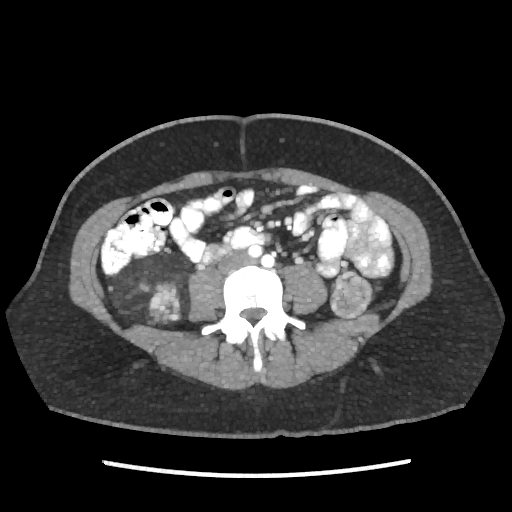Lesion: (97, 261, 196, 329)
